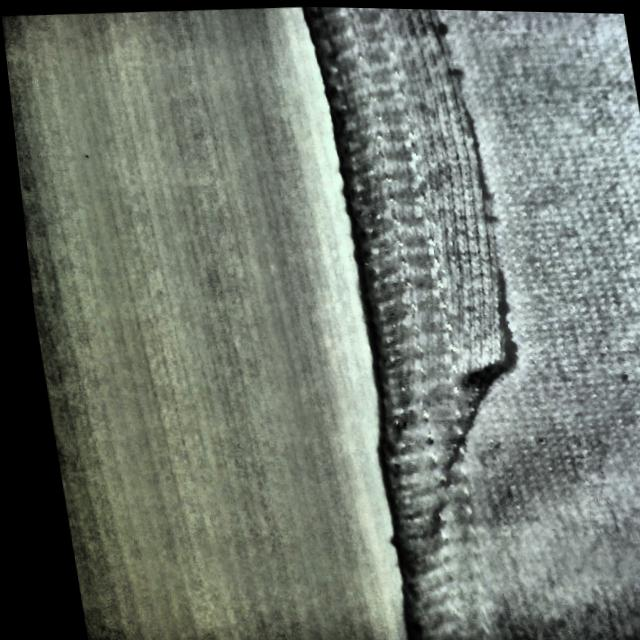seam: (303, 5, 558, 435)
